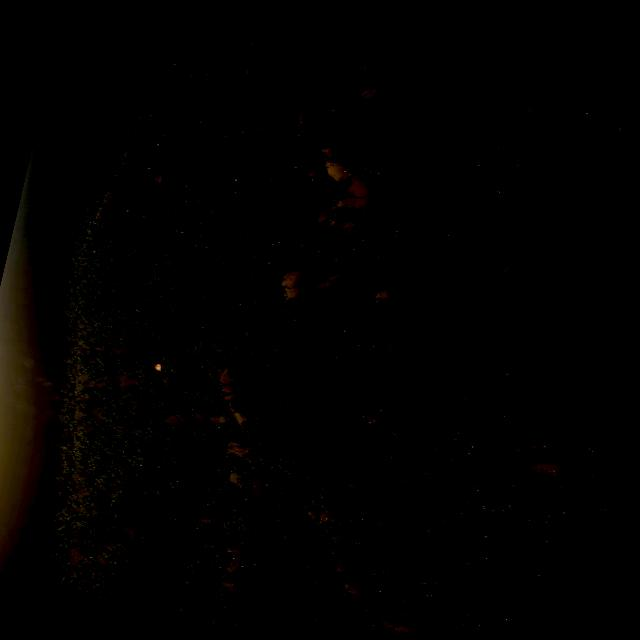fire: (153, 360, 165, 370)
